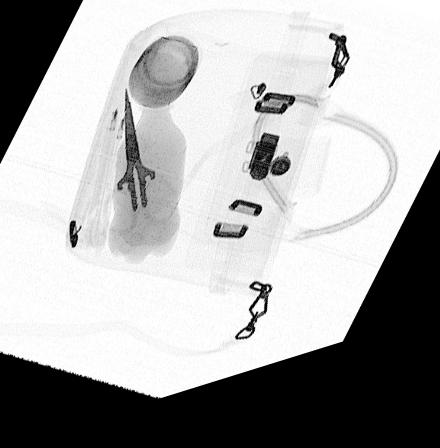Scissors: (99, 91, 180, 244)
